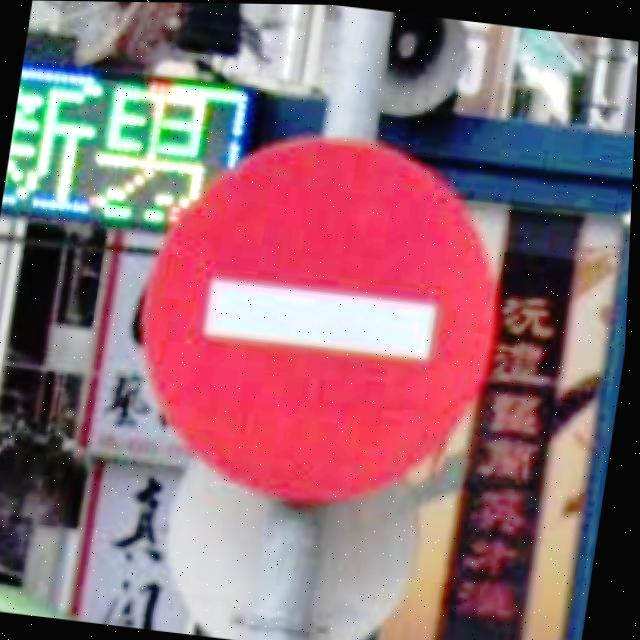noentry: (120, 109, 531, 526)
